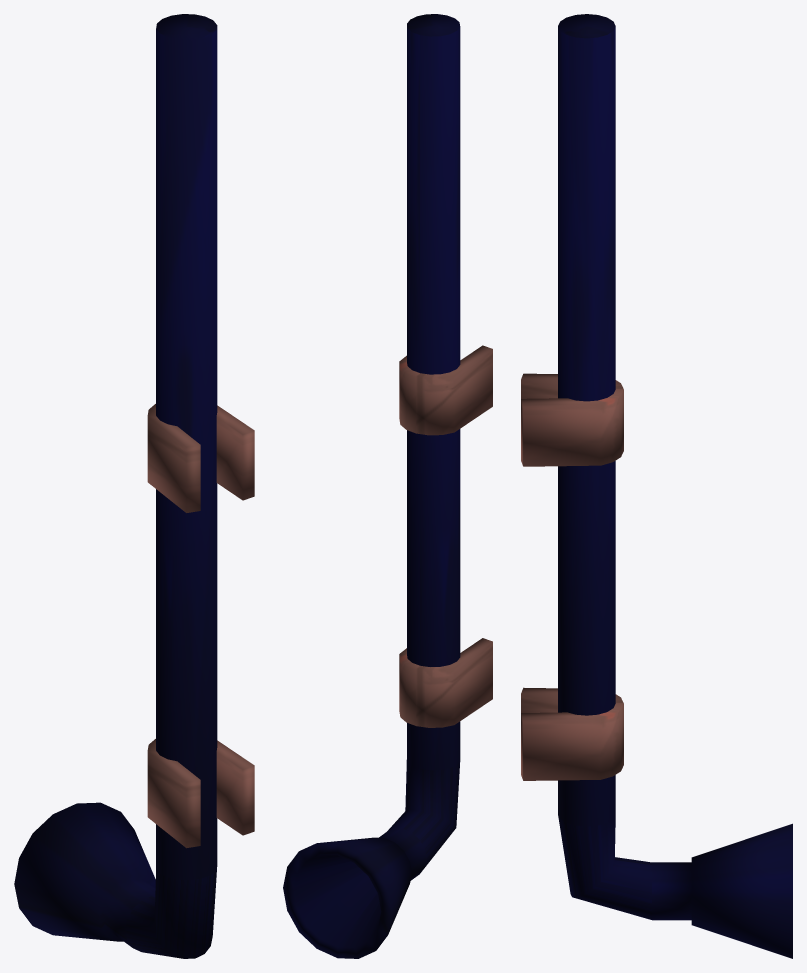
Rendered from Auditorio.fbx.
The picture shows the model from 3 angles, left to right: view 1: azimuth 30°, elevation 25°; view 2: azimuth 150°, elevation 25°; view 3: azimuth 270°, elevation 25°; orthographic projection. The views are drawn at different scales.
Visible parts, largest first — view 1: Auditorio; view 2: Auditorio; view 3: Auditorio.
Part boxes in pixels (box(x1,y1,x2,y2)): Auditorio: box(14, 14, 254, 958); Auditorio: box(283, 14, 492, 958); Auditorio: box(521, 14, 792, 958).
Size of the model in its own units: 24.61 by 49.41 by 186.
